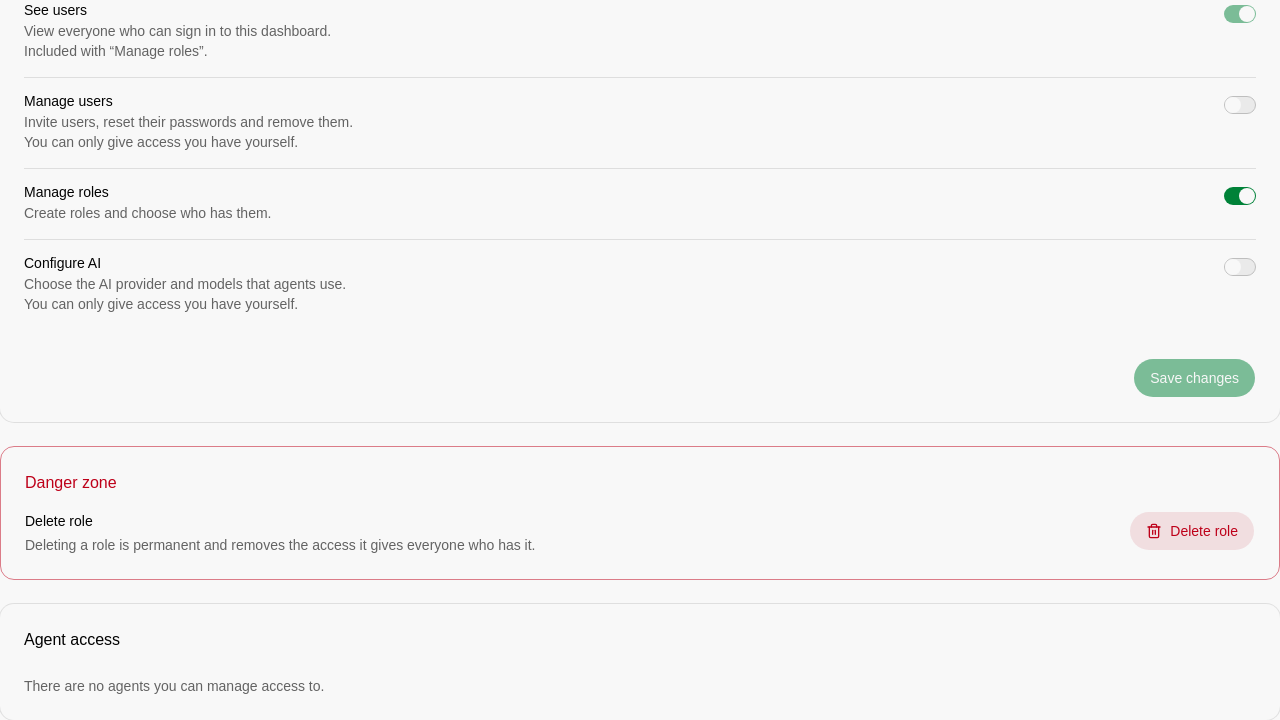
Scenario: role management › waits for the operator roles before offering changes that may lock them out
(page scrolled)
Click the button "Delete role": click(1192, 531) left=1129, top=511, right=1255, bottom=551
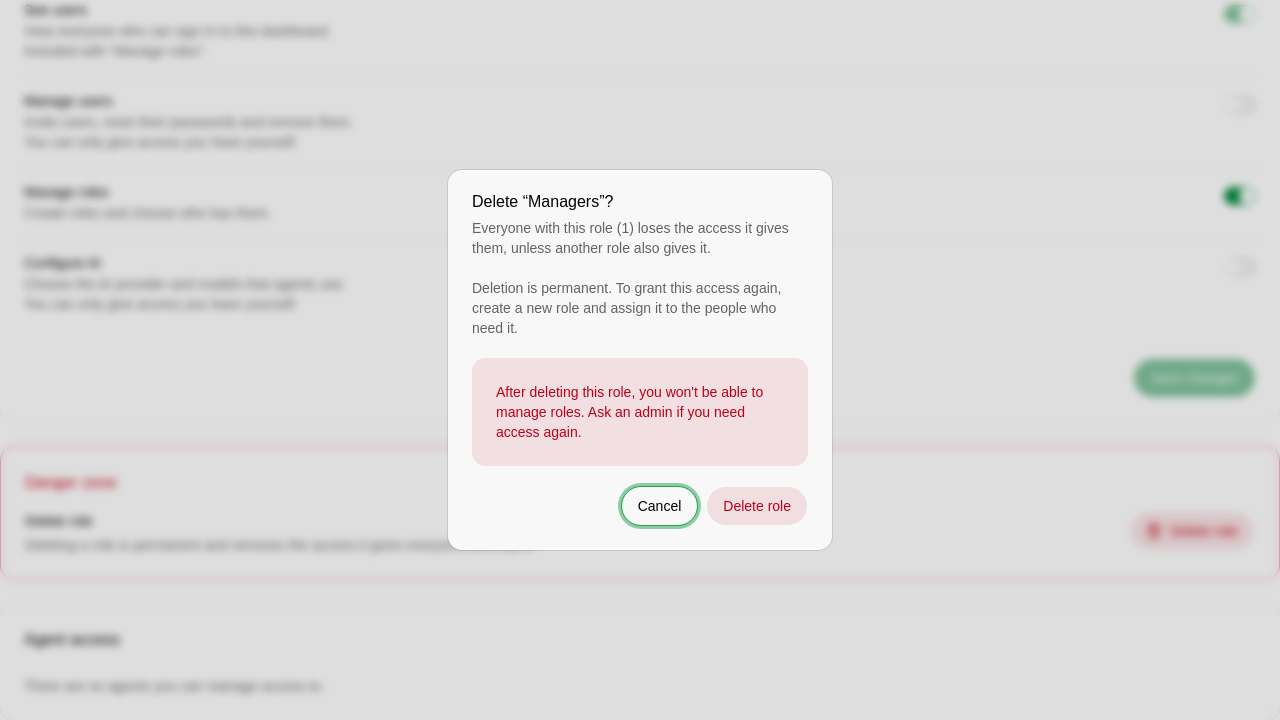
Expected: the dialog shows "After deleting this role, you won't be able to manage roles. Ask an admin if you need access again.", left=496, top=384, right=763, bottom=440
